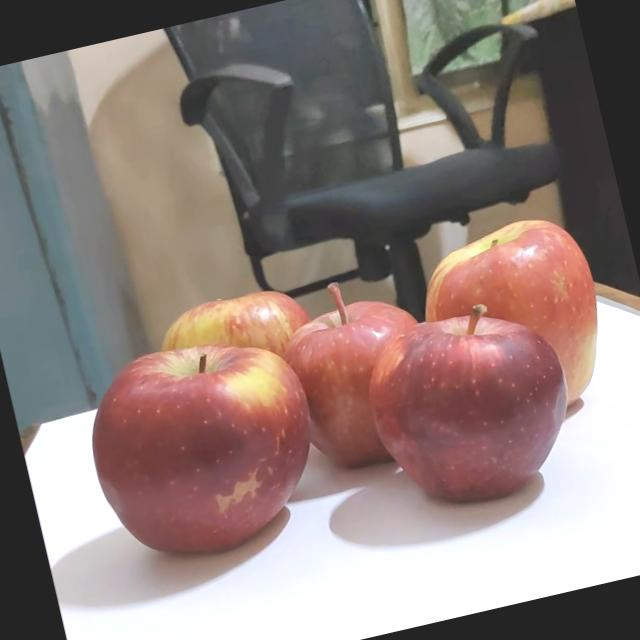apple: (68, 316, 338, 574), (351, 294, 582, 517), (412, 205, 622, 437), (264, 264, 454, 480), (136, 264, 331, 424)
